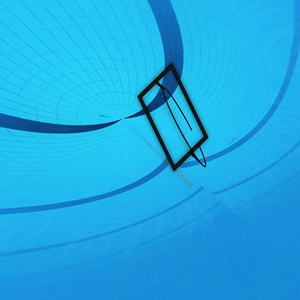circle: (134, 62, 216, 172)
